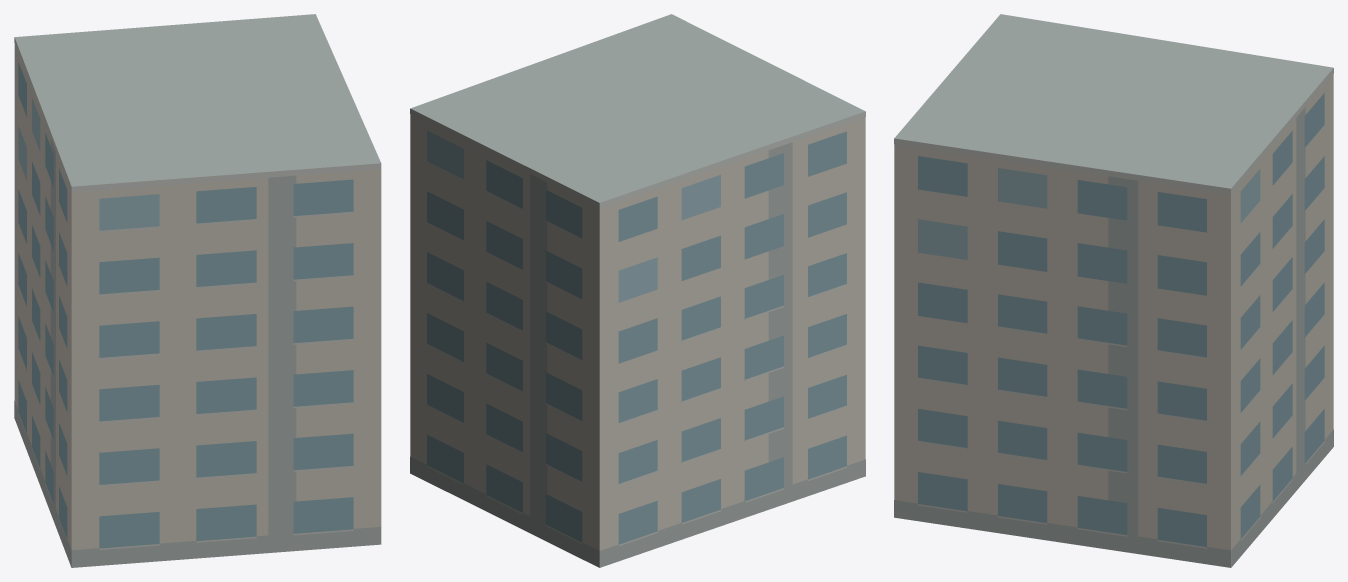
File: survey-upis-32890939.glb
3 views of the same model, side by side, from view 1: azimuth 30°, elevation 25°; view 2: azimuth 150°, elevation 25°; view 3: azimuth 270°, elevation 25° (orthographic). The views are drawn at different scales.
Visible parts, largest first — view 1: survey-upis-32890939.tmp; view 2: survey-upis-32890939.tmp; view 3: survey-upis-32890939.tmp.
Part boxes in pixels (x1,y1,x2,y2): survey-upis-32890939.tmp: (14, 14, 381, 567); survey-upis-32890939.tmp: (410, 14, 865, 567); survey-upis-32890939.tmp: (894, 14, 1333, 567).
Bounding box in the file's own units: 15.62 × 15.8 × 16.61.
